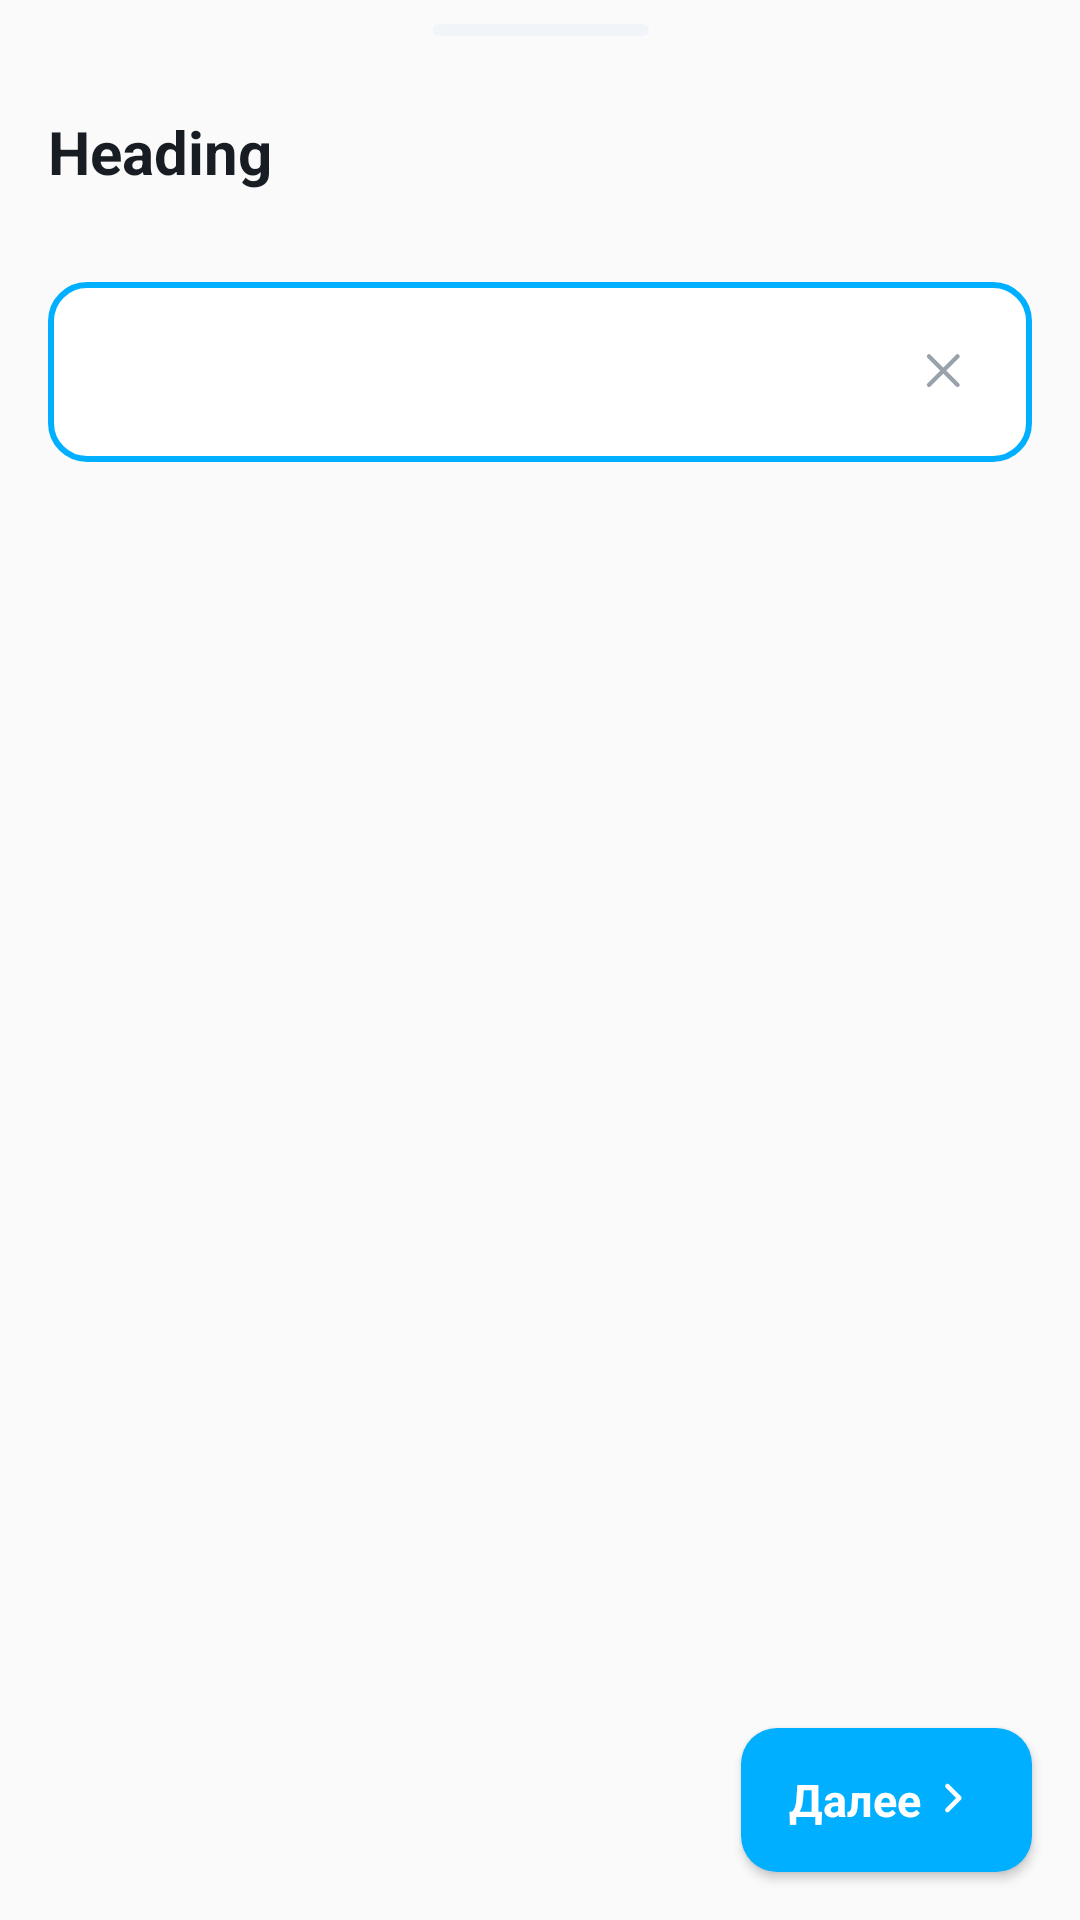

Icons on this 1080×1920 Android screen, each with the point to tap as (x=x, y=y):
cross: (x=943, y=370)
